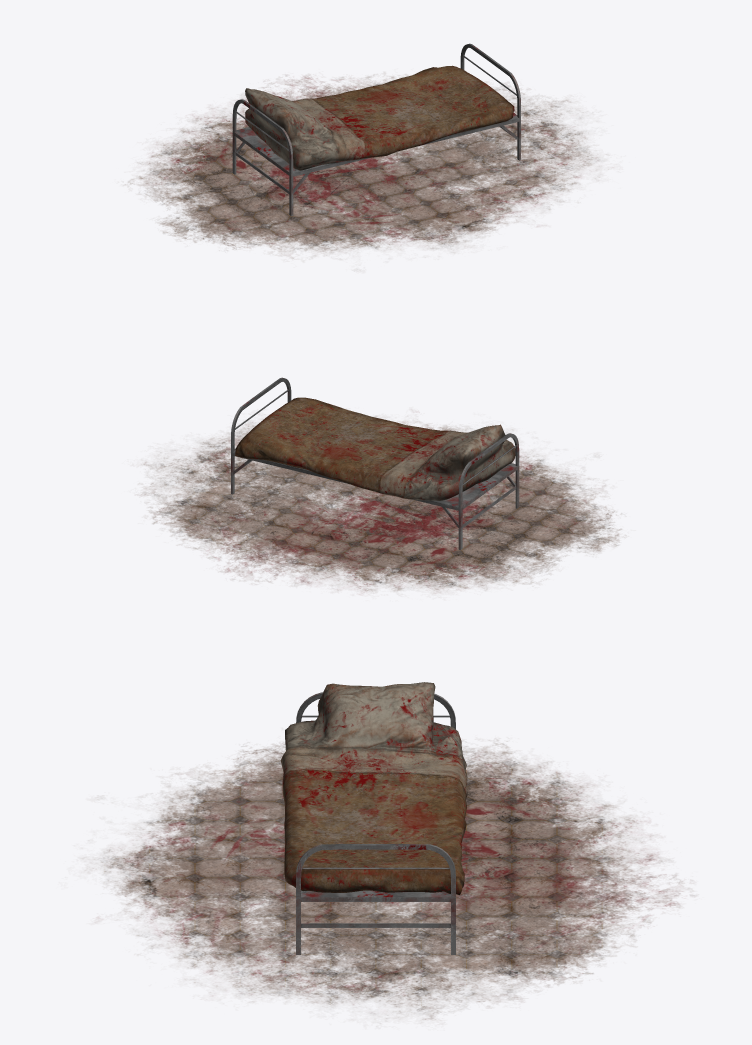
Rendered from horror_bed.glb.
The picture shows the model from 3 angles, top to bottom: view 1: azimuth 30°, elevation 25°; view 2: azimuth 150°, elevation 25°; view 3: azimuth 270°, elevation 25°; orthographic projection. The views are drawn at different scales.
Visible parts, largest first — view 1: Floor, Bed_low, Frame_low; view 2: Floor, Bed_low, Frame_low; view 3: Floor, Bed_low, Frame_low.
Boxes of the visible parts, left/top/right/bottom form: Floor: left=125, top=72, right=606, bottom=258; Bed_low: left=245, top=65, right=514, bottom=170; Frame_low: left=232, top=43, right=520, bottom=215; Floor: left=140, top=416, right=625, bottom=593; Bed_low: left=235, top=397, right=515, bottom=500; Frame_low: left=231, top=377, right=519, bottom=549; Floor: left=85, top=739, right=694, bottom=1019; Bed_low: left=280, top=682, right=467, bottom=894; Frame_low: left=296, top=692, right=455, bottom=954.
Bounding box in the file's own units: 4.44 × 0.8401 × 4.44.
Materials: 2 (2 with a texture image).
